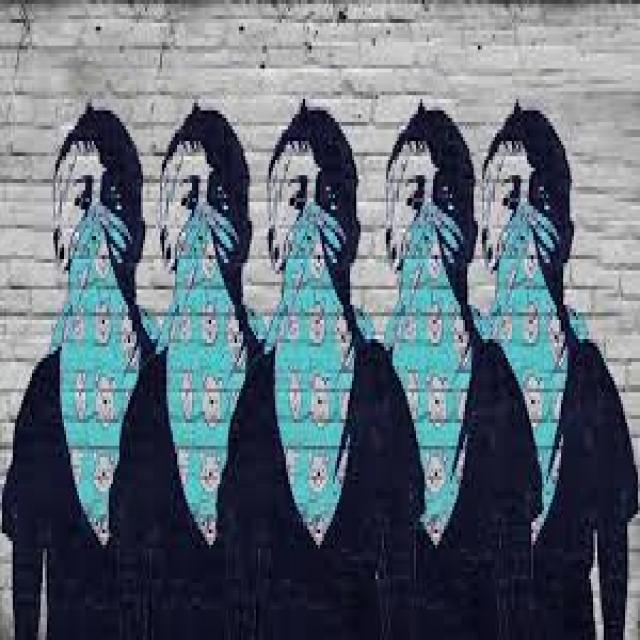-: (2, 101, 638, 640)
